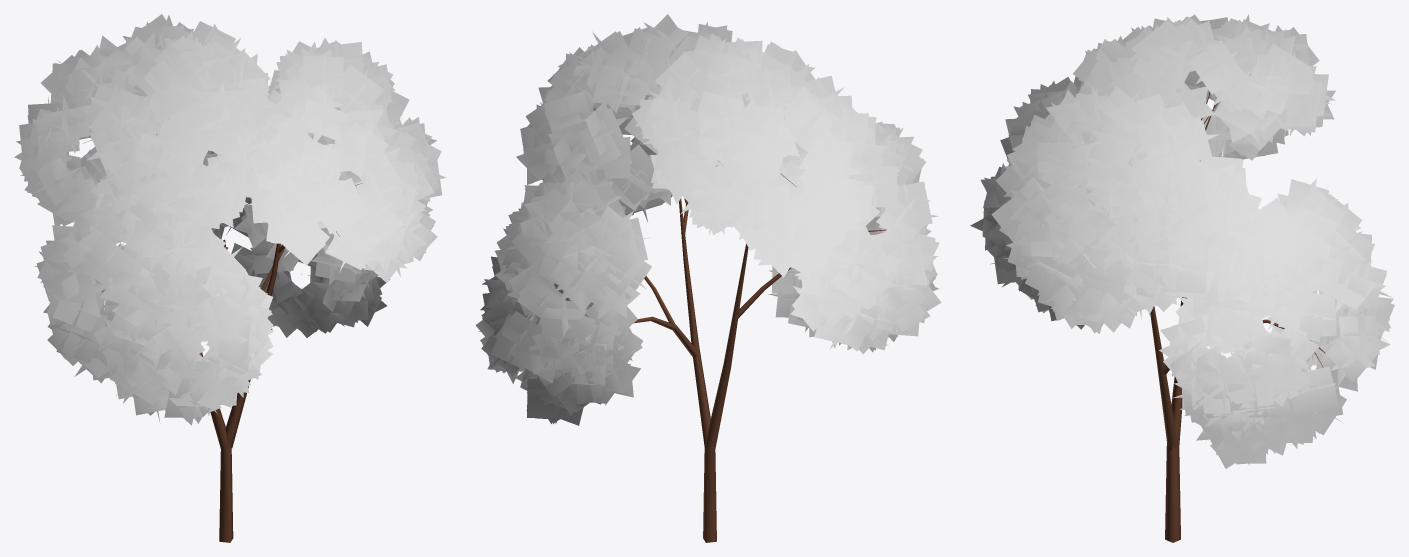
File: T1Tree7.fbx
3 views of the same model, side by side, from view 1: azimuth 30°, elevation 25°; view 2: azimuth 150°, elevation 25°; view 3: azimuth 270°, elevation 25° (orthographic).
Parts seen in each view (by area): view 1: Leaves_1.7B, Leaves_1.7A, Bark_1.7; view 2: Leaves_1.7B, Leaves_1.7A, Bark_1.7; view 3: Leaves_1.7B, Leaves_1.7A, Bark_1.7.
Part boxes in pixels (left/top/right/bottom): Leaves_1.7B: left=14, top=14, right=446, bottom=423; Leaves_1.7A: left=20, top=20, right=437, bottom=425; Bark_1.7: left=83, top=140, right=362, bottom=542; Leaves_1.7B: left=475, top=22, right=941, bottom=425; Leaves_1.7A: left=481, top=14, right=937, bottom=423; Bark_1.7: left=634, top=173, right=886, bottom=542; Leaves_1.7B: left=970, top=14, right=1393, bottom=468; Leaves_1.7A: left=984, top=16, right=1394, bottom=465; Bark_1.7: left=1150, top=92, right=1325, bottom=542.
Size of the model in its own units: 5.67 by 6.96 by 5.3.
